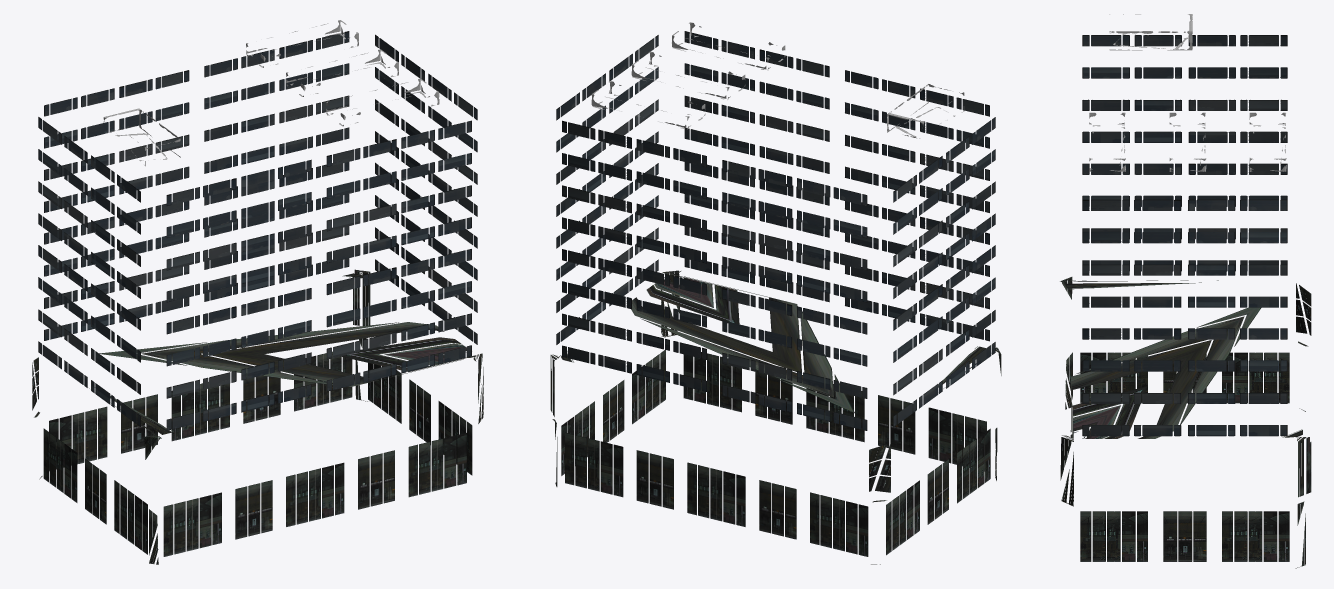
The model's file is si_building_09.fbx.
3 renders of one model, left to right at view 1: azimuth 30°, elevation 25°; view 2: azimuth 150°, elevation 25°; view 3: azimuth 270°, elevation 25°, orthographic.
Parts seen in each view (by area): view 1: si_building_09; view 2: si_building_09; view 3: si_building_09.
Part boxes in pixels (bbox=[...]): si_building_09: bbox=[32, 20, 483, 564]; si_building_09: bbox=[550, 22, 1001, 564]; si_building_09: bbox=[1060, 14, 1311, 568].
Size of the model in its own units: 87.5 by 93.45 by 57.
Materials: 1 (1 with a texture image).
